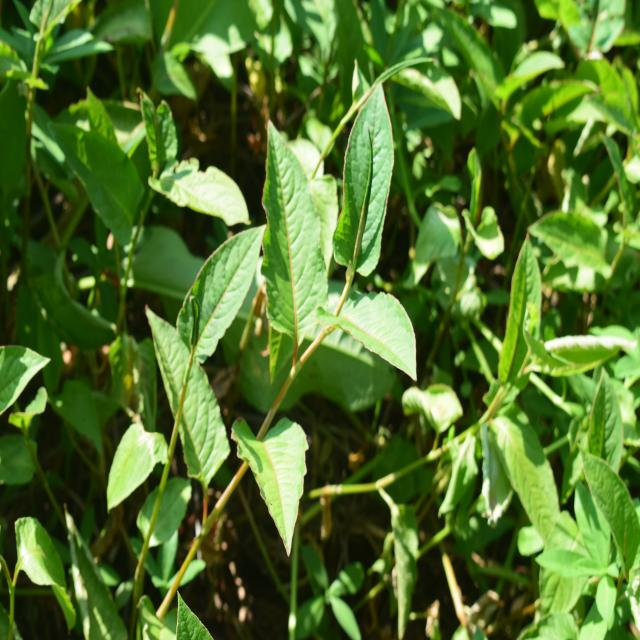Chinese_knotweed: (151, 105, 416, 540)
